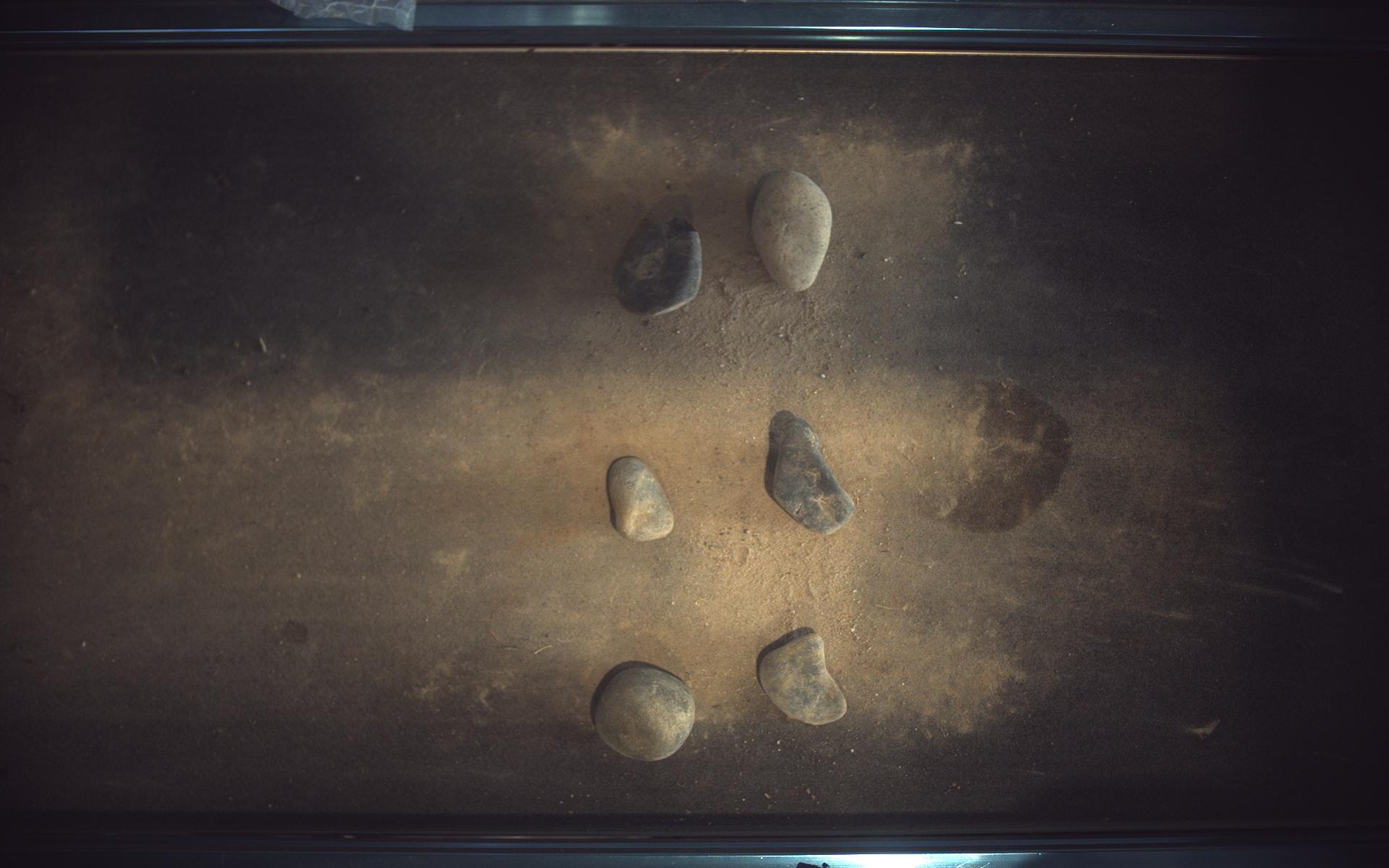stone: (765, 412, 856, 535), (595, 665, 696, 762), (753, 169, 833, 291), (757, 629, 849, 726), (615, 218, 703, 315), (608, 457, 675, 542)
